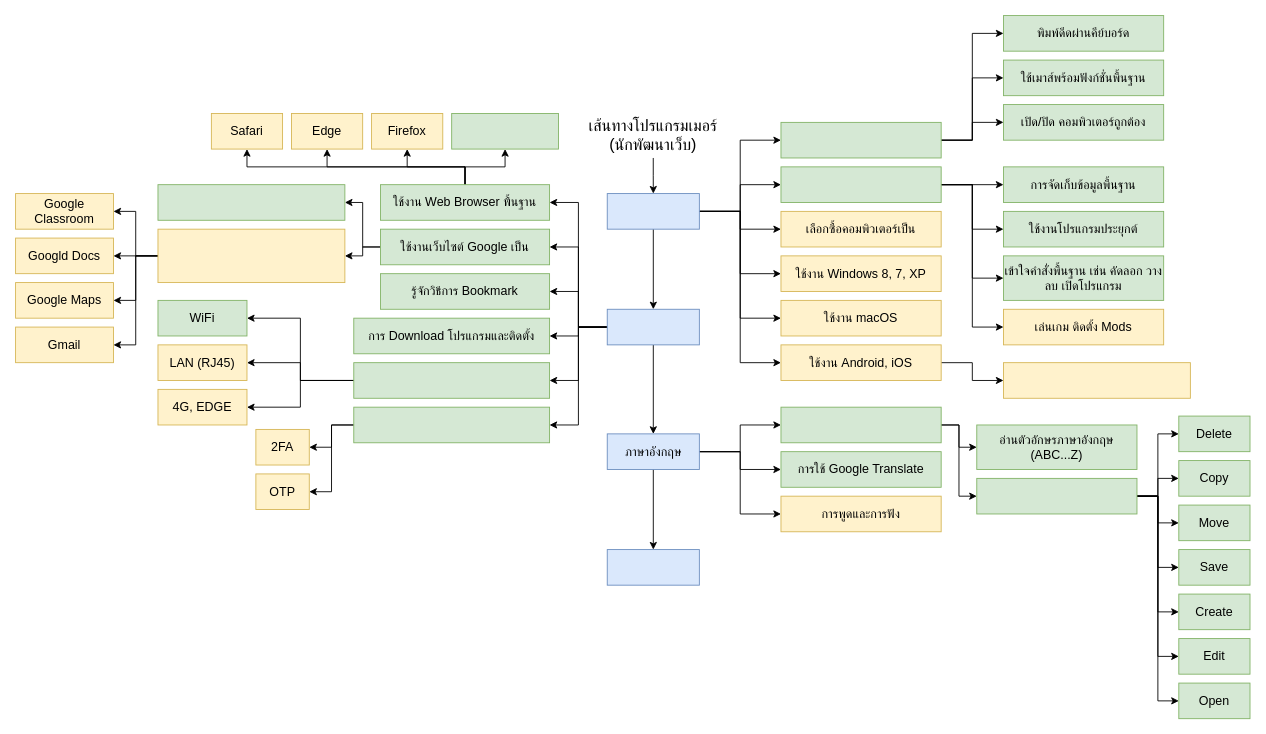
Image size: 1266x734. Some labels were removed from this diagram. Here are the shapes that lost their labels. From the top down, the centre of each, then its label:
At point (504, 131): "Google Chrome".
At point (860, 139): "ใช้อุปกรณ์คอมพิวเตอร์เป็น".
At point (251, 202): "รู้จักการค้นให้เจอข้อมูลที่ต้องการ".
At point (860, 184): "ใช้งาน Windows 10".
At point (652, 211): "Computer".
At point (251, 255): "ใช้งานโปรแกรมเสริมของ Google (Google Ecosystem)".
At point (652, 326): "Web".
At point (451, 380): "การเชื่อมต่อ Internet ด้วยวิธีต่างๆ".
At point (1096, 380): "การเข้าถึงแอปและเกมผ่านมือถือ".
At point (451, 424): "การเข้าสู่ระบบและสมัครสมาชิก".
At point (860, 424): "การอ่านและเขียนพื้นฐาน".
At point (1056, 495): "แปลความหมายของคำง่ายๆ".
At point (652, 567): "HTML".
